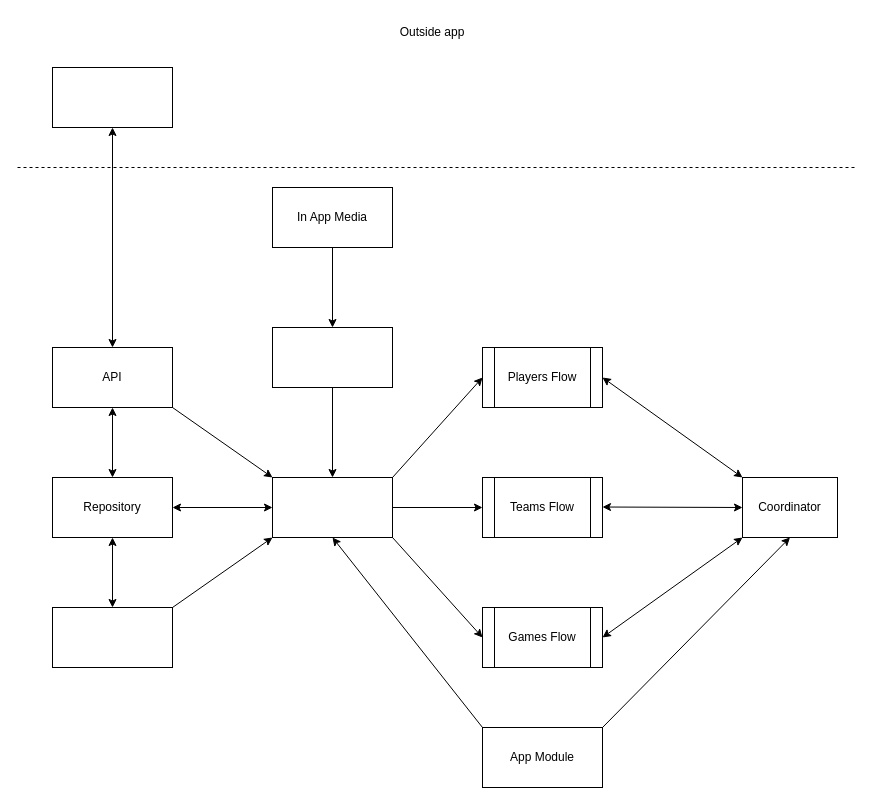
Image size: 876x805. Some labels were removed from this diagram. The shapes that lost their labels are listed below. From the top down, each one's centre as x and y in pixels, then its label:
[112,97]: BackEnd
[332,357]: Image loader
[332,507]: DI Graph
[112,637]: Database
